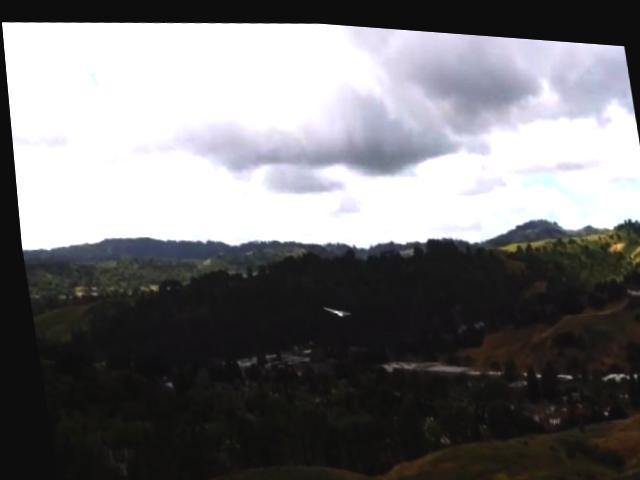iha: (318, 299, 345, 312)
